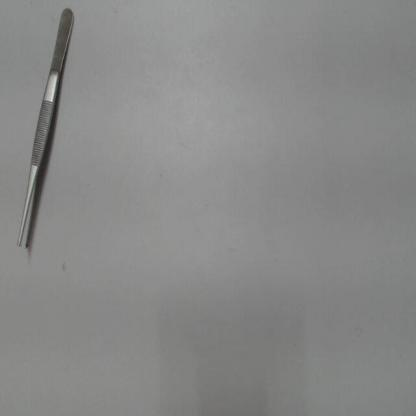Gillies Toothed Dissector: (14, 7, 82, 255)
